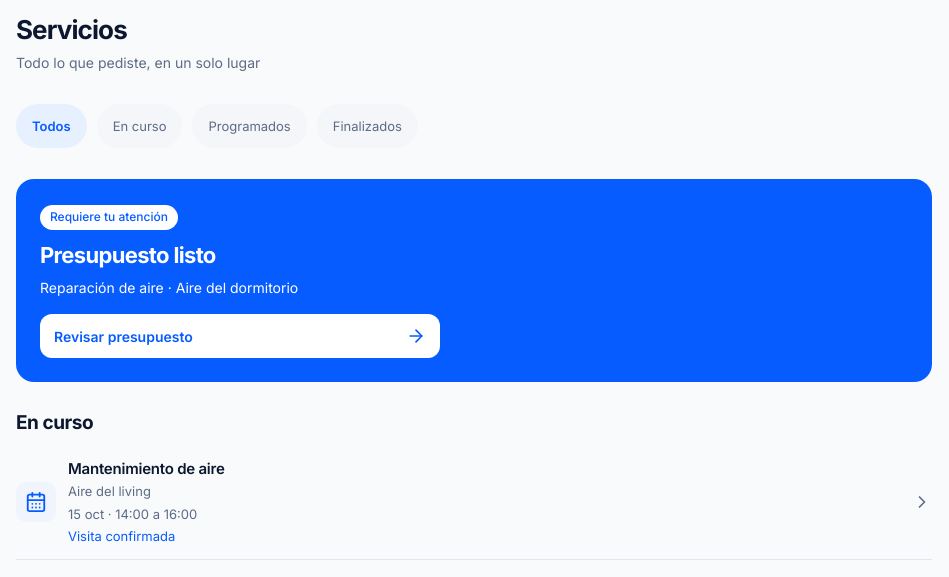
Test: approved customer Services screen › fetches a fresh server-filtered history rather than filtering only the first page
The image size is (949, 577).
Click the button "Finalizados": (367, 126) 317,104 -> 418,148
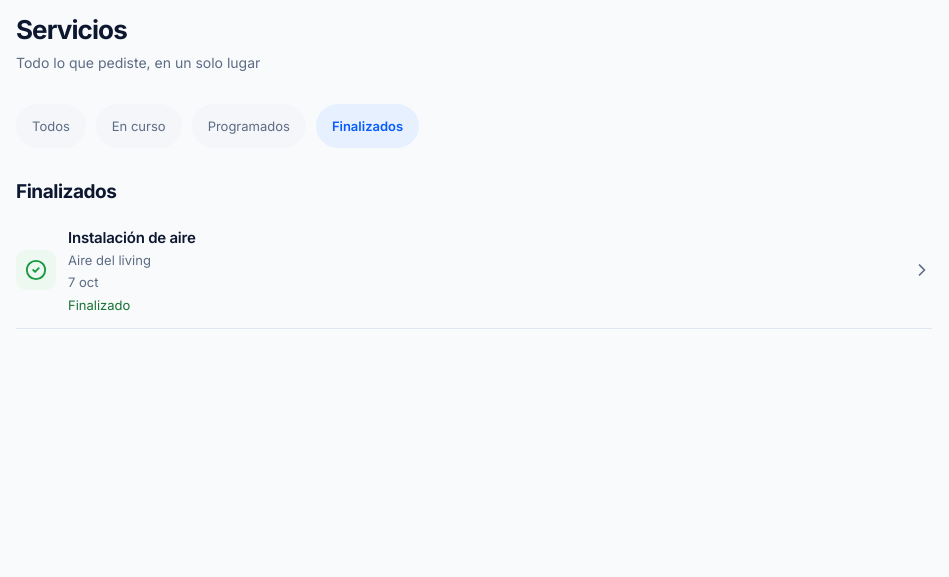
Result: the text "Instalación de aire" is shown at 68,228 -> 196,247
Result: the heading "Presupuesto listo" is gone
